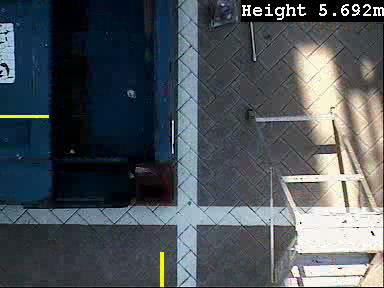groundmarker_2: (41, 1, 257, 71)
